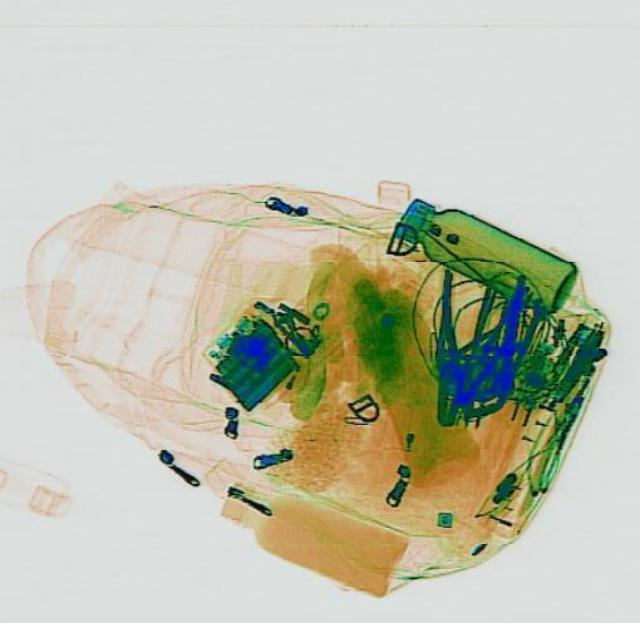Pliers: (414, 270, 530, 433), (415, 265, 497, 426)
